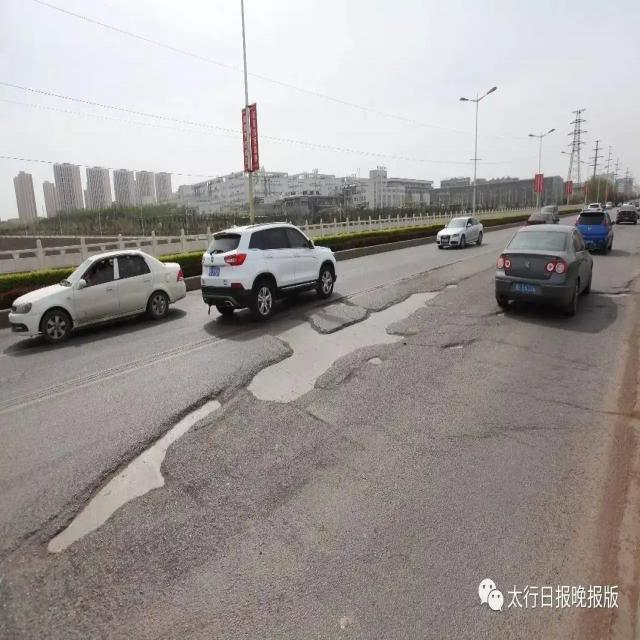pothole: (46, 385, 229, 556), (242, 277, 461, 409), (440, 338, 478, 354)
